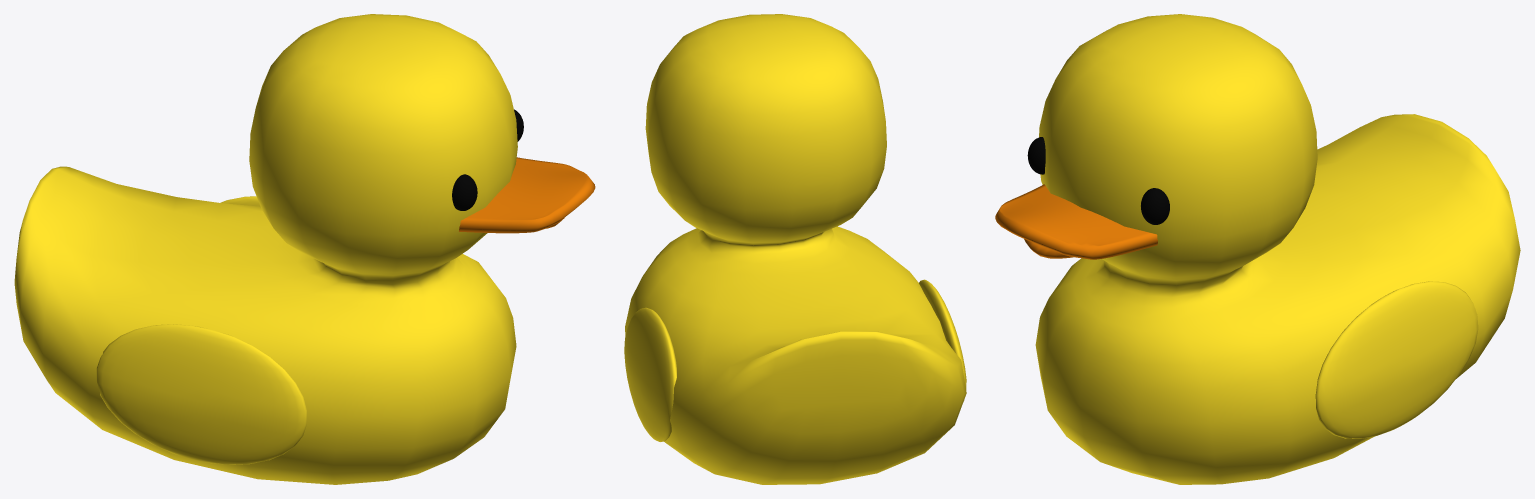
File: rubberducky.fbx
The picture shows the model from 3 angles, left to right: view 1: azimuth 30°, elevation 25°; view 2: azimuth 150°, elevation 25°; view 3: azimuth 270°, elevation 25°; orthographic projection. The views are drawn at different scales.
Parts seen in each view (by area): view 1: RubberDukcy; view 2: RubberDukcy; view 3: RubberDukcy.
Part boxes in pixels (bbox=[...]): RubberDukcy: bbox=[14, 14, 595, 484]; RubberDukcy: bbox=[624, 14, 966, 484]; RubberDukcy: bbox=[995, 14, 1520, 484].
Bounding box in the file's own units: 188 × 176 × 193.
